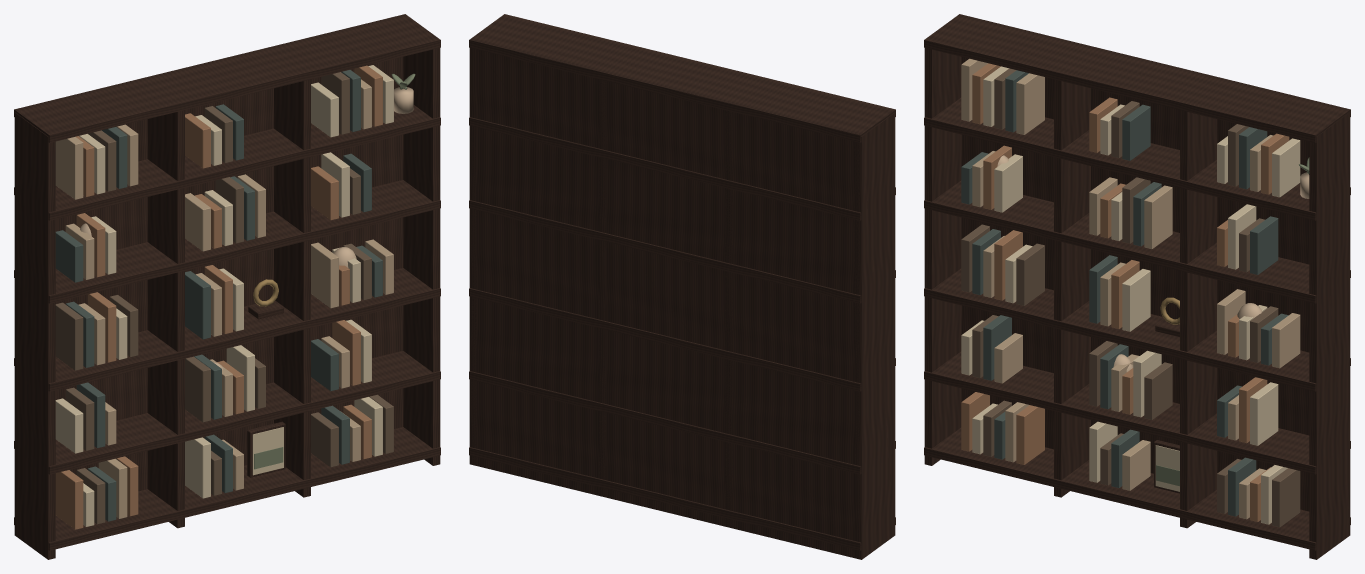
File: bookshelf.glb
3 views of the same model, side by side, from view 1: azimuth 30°, elevation 25°; view 2: azimuth 150°, elevation 25°; view 3: azimuth 330°, elevation 25° (orthographic).
Visible parts, largest first — view 1: Bookshelf rear panel, Bookshelf vertical divider, Bookshelf shelf.005, Bookshelf vertical divider.001, Bookshelf vertical divider.003, Bookshelf vertical divider.002, Bookshelf shelf.001, Bookshelf shelf.003, Bookshelf shelf.004, Bookshelf shelf, Bookshelf shelf.002, Book spine.030 (+67 smaller); view 2: Bookshelf rear panel, Bookshelf vertical divider, Bookshelf shelf.005, Bookshelf shelf.001, Bookshelf shelf.002, Bookshelf shelf.004, Bookshelf shelf, Bookshelf shelf.003, Bookshelf vertical divider.002, Bookshelf vertical divider.003, Bookshelf vertical divider.001; view 3: Bookshelf rear panel, Bookshelf vertical divider.003, Bookshelf shelf.005, Bookshelf vertical divider, Bookshelf vertical divider.002, Bookshelf vertical divider.001, Bookshelf shelf.001, Bookshelf shelf.003, Bookshelf shelf.004, Bookshelf shelf.002, Bookshelf shelf, Book spine.065 (+70 smaller).
Boxes of the visible parts, left/top/right/bottom form: Bookshelf rear panel: left=55, top=57, right=403, bottom=491; Bookshelf vertical divider: left=14, top=112, right=55, bottom=559; Bookshelf shelf.005: left=14, top=14, right=440, bottom=142; Bookshelf vertical divider.001: left=147, top=110, right=184, bottom=528; Bookshelf vertical divider.003: left=403, top=48, right=440, bottom=465; Bookshelf vertical divider.002: left=274, top=79, right=310, bottom=497; Bookshelf shelf.001: left=14, top=351, right=440, bottom=474; Bookshelf shelf.003: left=14, top=180, right=440, bottom=303; Bookshelf shelf.004: left=14, top=105, right=440, bottom=220; Bookshelf shelf: left=14, top=427, right=440, bottom=550; Bookshelf shelf.002: left=14, top=268, right=440, bottom=391; Book spine.030: left=55, top=302, right=83, bottom=370; Bookshelf rear panel: left=471, top=49, right=859, bottom=557; Bookshelf vertical divider: left=854, top=112, right=895, bottom=559; Bookshelf shelf.005: left=469, top=14, right=895, bottom=142; Bookshelf shelf.001: left=469, top=371, right=895, bottom=474; Bookshelf shelf.002: left=469, top=288, right=895, bottom=391; Bookshelf shelf.004: left=469, top=117, right=895, bottom=220; Bookshelf shelf: left=469, top=447, right=895, bottom=550; Bookshelf shelf.003: left=469, top=200, right=895, bottom=303; Bookshelf vertical divider.002: left=599, top=79, right=606, bottom=497; Bookshelf vertical divider.003: left=469, top=48, right=476, bottom=465; Bookshelf vertical divider.001: left=725, top=110, right=732, bottom=527; Bookshelf rear panel: left=961, top=57, right=1309, bottom=511; Bookshelf vertical divider.003: left=1309, top=112, right=1350, bottom=559; Bookshelf shelf.005: left=924, top=14, right=1350, bottom=142; Bookshelf vertical divider: left=924, top=48, right=961, bottom=465; Bookshelf vertical divider.002: left=1180, top=110, right=1217, bottom=528; Bookshelf vertical divider.001: left=1054, top=79, right=1090, bottom=497; Bookshelf shelf.001: left=924, top=351, right=1350, bottom=474; Bookshelf shelf.003: left=924, top=180, right=1350, bottom=303; Bookshelf shelf.004: left=924, top=97, right=1350, bottom=220; Bookshelf shelf.002: left=924, top=268, right=1350, bottom=391; Bookshelf shelf: left=924, top=427, right=1350, bottom=550; Book spine.065: left=1016, top=73, right=1044, bottom=134.
Bounding box in the file's own units: 2.43 × 2.51 × 0.38.
Materials: 11 (1 with a texture image).
